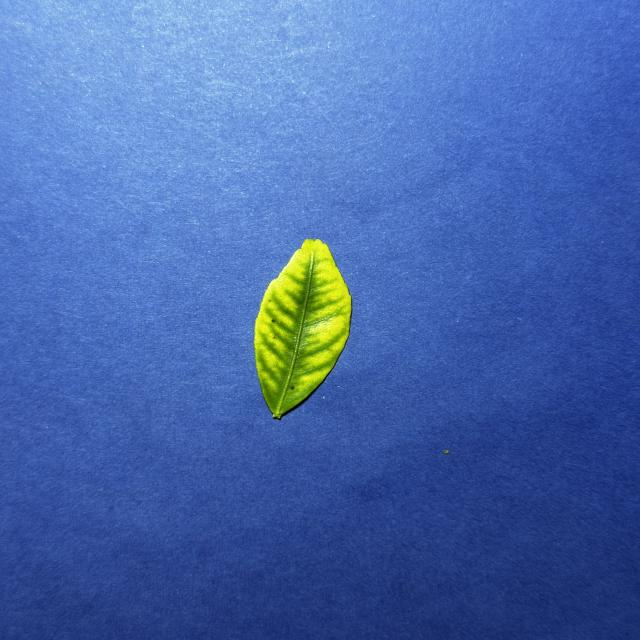greening: (254, 239, 351, 419)
